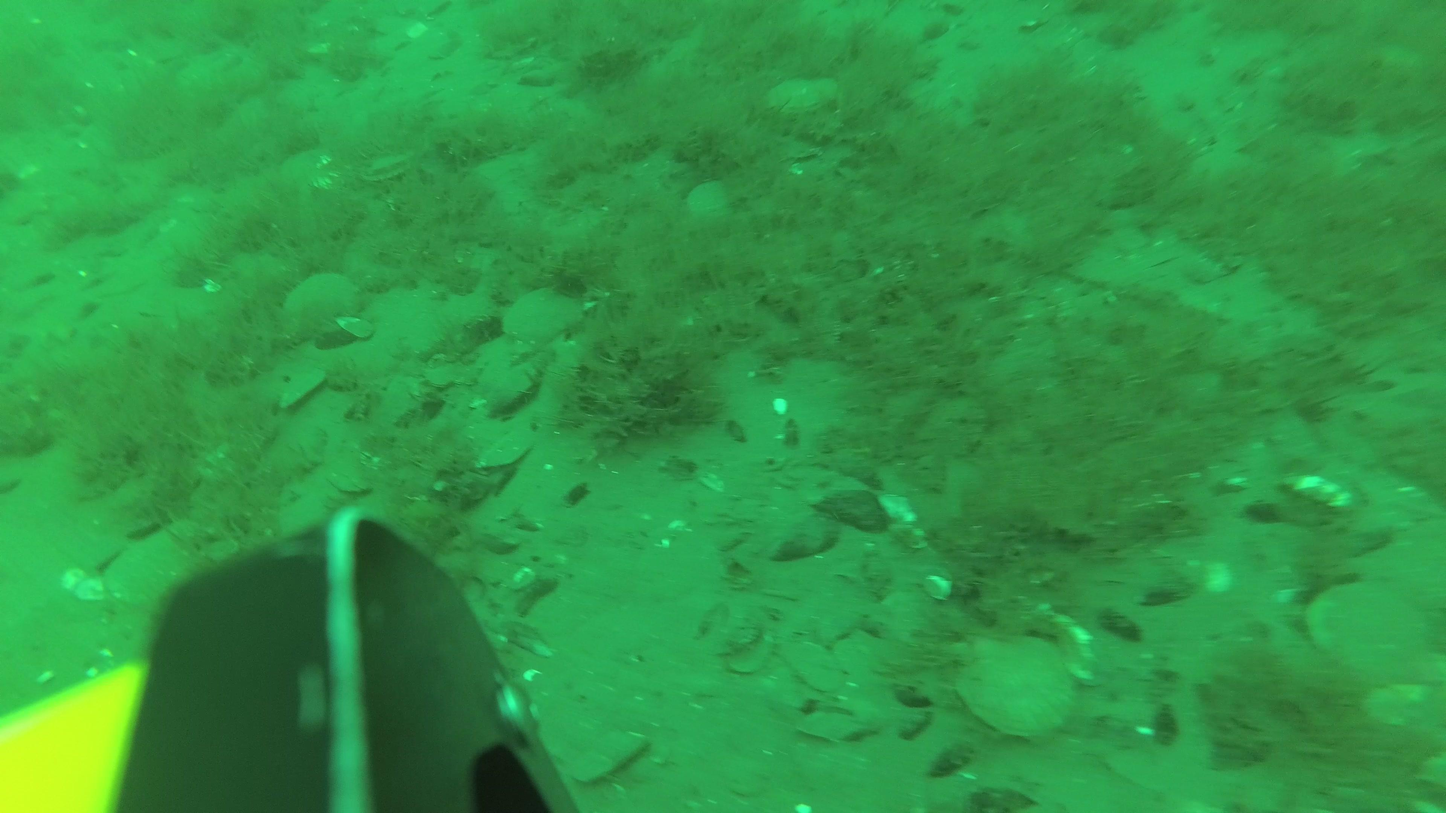scallop: (1300, 575, 1433, 686), (955, 627, 1080, 739), (503, 277, 589, 358), (285, 269, 363, 339), (279, 143, 363, 200), (765, 70, 847, 120), (680, 175, 749, 226), (358, 142, 429, 187)
